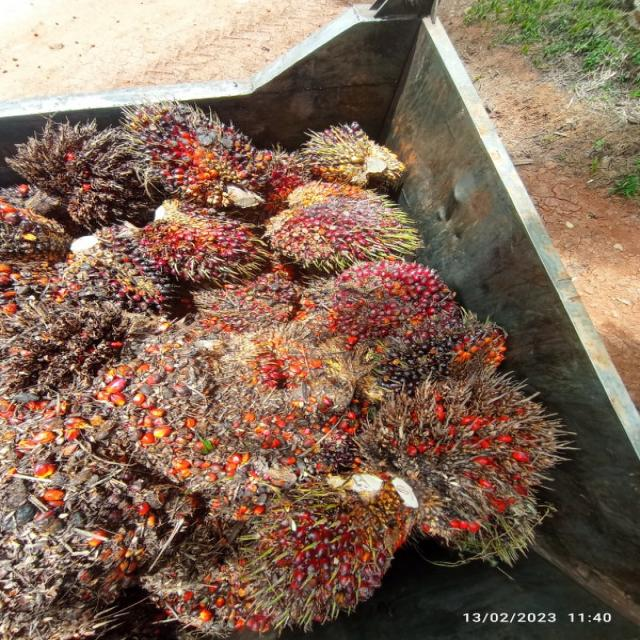fraksi 00: (359, 304, 512, 404), (71, 227, 180, 324)
fraksi 1: (224, 447, 402, 630), (130, 84, 268, 228)
fraksi 3: (271, 165, 418, 279), (127, 183, 269, 297), (318, 250, 459, 345)
fraksi 4: (377, 350, 565, 566)
